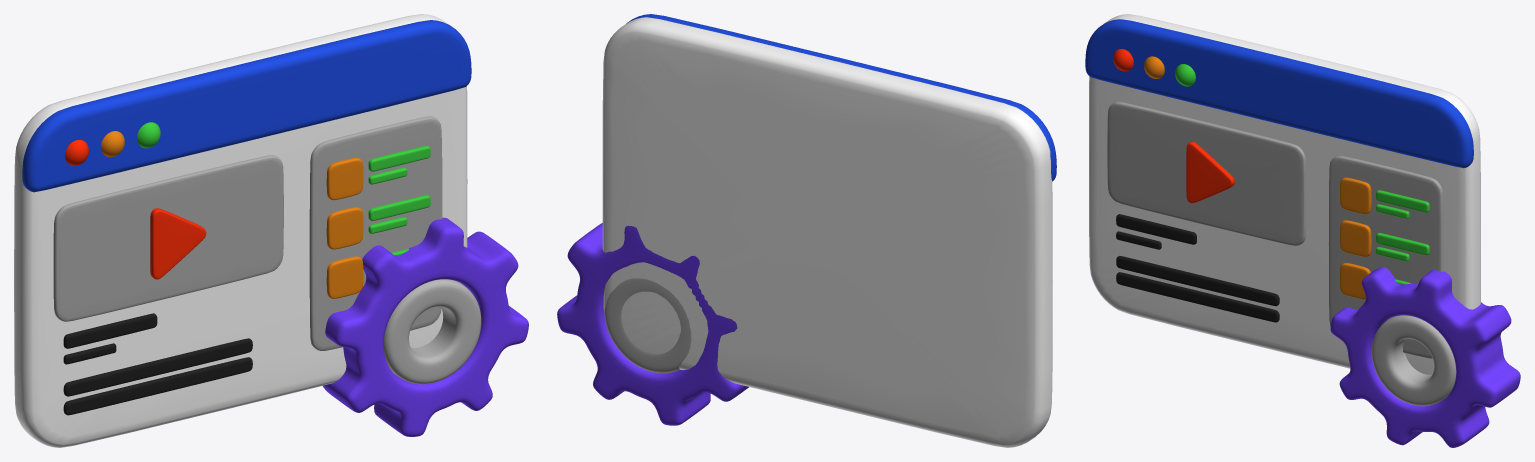
The model's file is Content Management.fbx.
The picture shows the model from 3 angles, left to right: view 1: azimuth 30°, elevation 25°; view 2: azimuth 150°, elevation 25°; view 3: azimuth 330°, elevation 25°; orthographic projection. The views are drawn at different scales.
Parts seen in each view (by area): view 1: Plane.002, Plane, Plane.003, Gear, Plane.001, Sphere; view 2: Plane.002, Gear, Plane.003; view 3: Plane.002, Plane, Plane.003, Gear, Plane.001, Sphere.
Part boxes in pixels (x1,y1,x2,y2): Plane.002: (14, 14, 467, 447); Plane: (53, 116, 442, 415); Plane.003: (22, 20, 471, 192); Gear: (323, 217, 528, 436); Plane.001: (150, 145, 430, 298); Sphere: (65, 122, 160, 165); Plane.002: (602, 17, 1052, 447); Gear: (557, 223, 748, 425); Plane.003: (626, 14, 1056, 181); Plane.002: (1089, 14, 1480, 374); Plane: (1107, 101, 1443, 358); Plane.003: (1085, 19, 1473, 168); Gear: (1330, 267, 1520, 447); Plane.001: (1186, 141, 1429, 299); Sphere: (1113, 49, 1195, 86).
Bounding box in the file's own units: 646 × 504 × 75.51.
